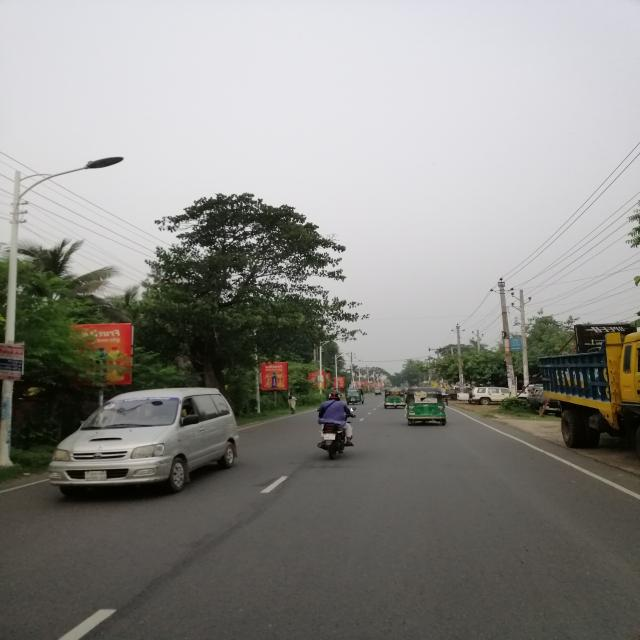Car: (29, 385, 250, 492)
Motorbike: (311, 414, 359, 458)
Truck: (520, 322, 640, 449)
